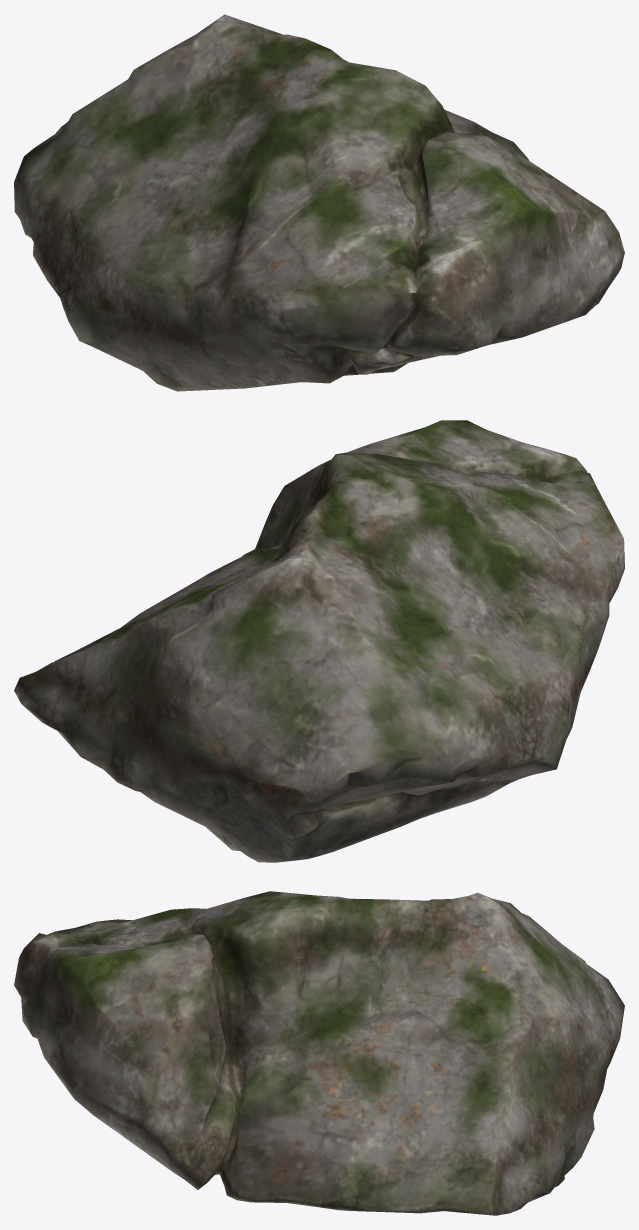
The model's file is Outcrop_C.fbx.
3 renders of one model, top to bottom at view 1: azimuth 30°, elevation 25°; view 2: azimuth 150°, elevation 25°; view 3: azimuth 270°, elevation 25°, orthographic. The views are drawn at different scales.
Parts seen in each view (by area): view 1: Outcrop_C_LOD0; view 2: Outcrop_C_LOD0; view 3: Outcrop_C_LOD0.
Part boxes in pixels (x1,y1,x2,y2): Outcrop_C_LOD0: (14, 14, 624, 391); Outcrop_C_LOD0: (14, 420, 624, 862); Outcrop_C_LOD0: (14, 891, 624, 1215).
Size of what is drawn, in the model's own units: 8.27 by 4.88 by 9.55.
Materials: 1 (1 with a texture image).
